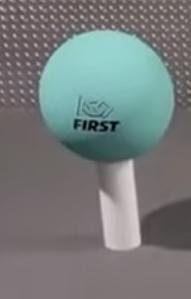algae: (38, 31, 174, 163)
coral: (98, 158, 142, 251)
